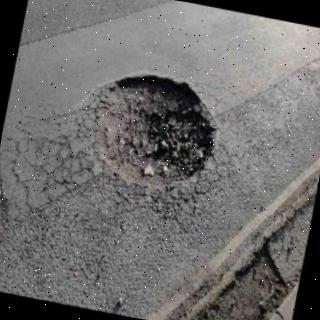pothole: (91, 75, 216, 181)
